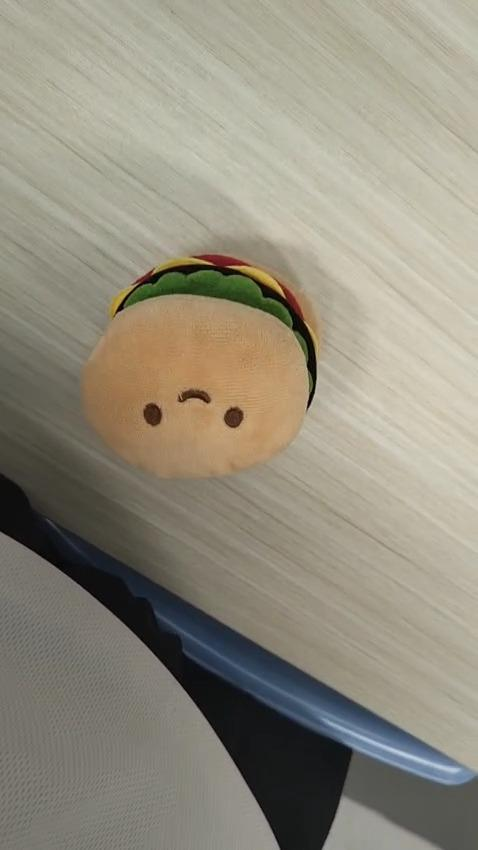hamburger: (76, 250, 326, 486)
